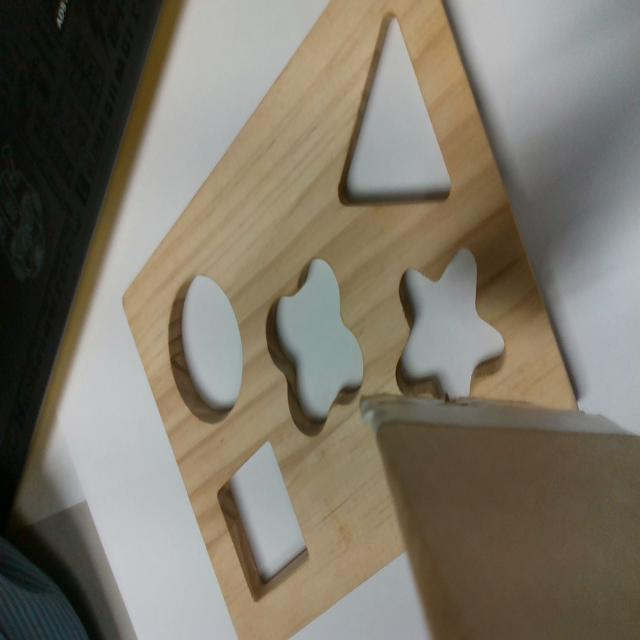circle: (168, 278, 243, 427)
flower: (263, 257, 367, 435)
square: (215, 440, 310, 605)
star: (397, 248, 506, 405)
triangle: (335, 13, 454, 220), (336, 12, 454, 207)
